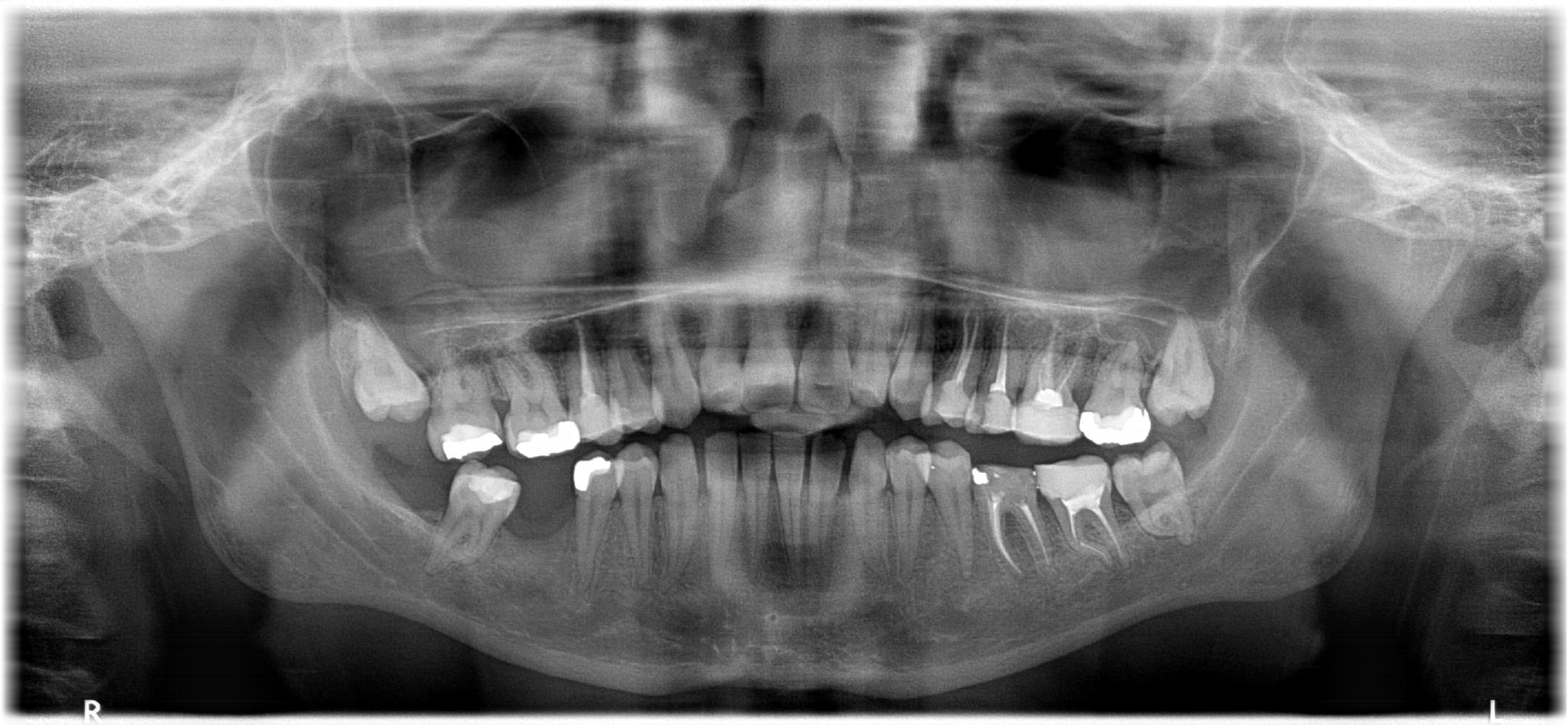Premolars: (509, 235, 1563, 725), (551, 252, 1568, 725), (490, 175, 1455, 562), (235, 190, 748, 654), (224, 233, 638, 725), (210, 199, 634, 651)
